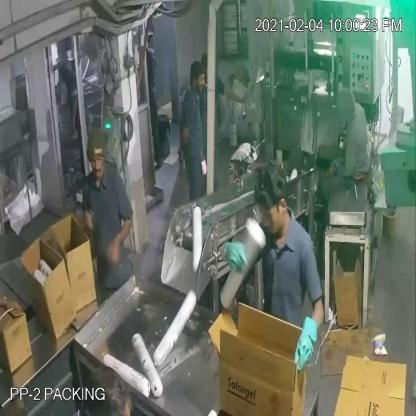glove: (292, 290, 328, 376), (213, 232, 257, 277)
no_glove: (106, 208, 141, 271), (216, 82, 258, 112), (78, 199, 100, 244)
